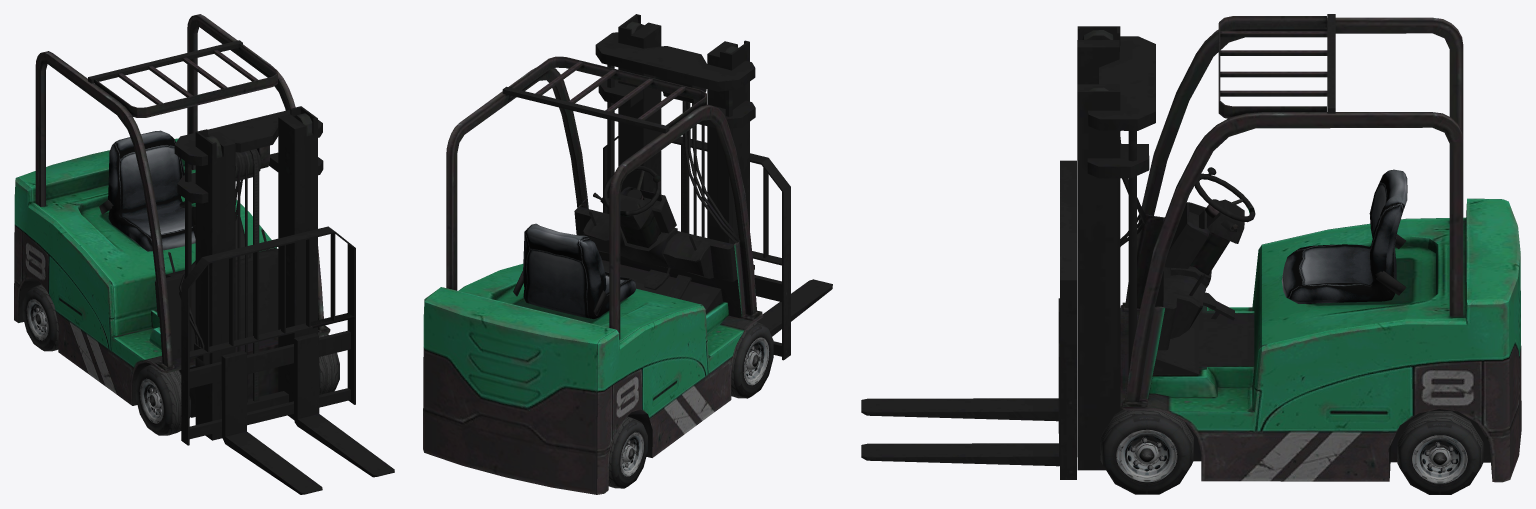
File: Forklift03.glb
The picture shows the model from 3 angles, left to right: view 1: azimuth 30°, elevation 25°; view 2: azimuth 150°, elevation 25°; view 3: azimuth 270°, elevation 25°; orthographic projection. The views are drawn at different scales.
Parts seen in each view (by area): view 1: Forklift03, Forklift_wheel1, Forklift_wheels, Forklift_wheel2; view 2: Forklift03, Forklift_wheel1, Forklift_wheels; view 3: Forklift03, Forklift_wheel2, Forklift_wheels.
Part boxes in pixels (box(x1,y1,x2,y2)): Forklift03: box(14, 14, 394, 494); Forklift_wheel1: box(135, 364, 190, 435); Forklift_wheels: box(22, 284, 58, 351); Forklift_wheel2: box(319, 334, 339, 394); Forklift03: box(423, 14, 832, 494); Forklift_wheel1: box(731, 322, 773, 398); Forklift_wheels: box(608, 416, 647, 488); Forklift03: box(861, 14, 1521, 482); Forklift_wheel2: box(1100, 409, 1193, 494); Forklift_wheels: box(1397, 411, 1483, 494).
Bounding box in the file's own units: 1.19 × 2 × 3.1.
Materials: 3 (3 with a texture image).
